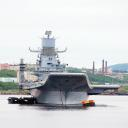Portanaves: (16, 30, 123, 110)
